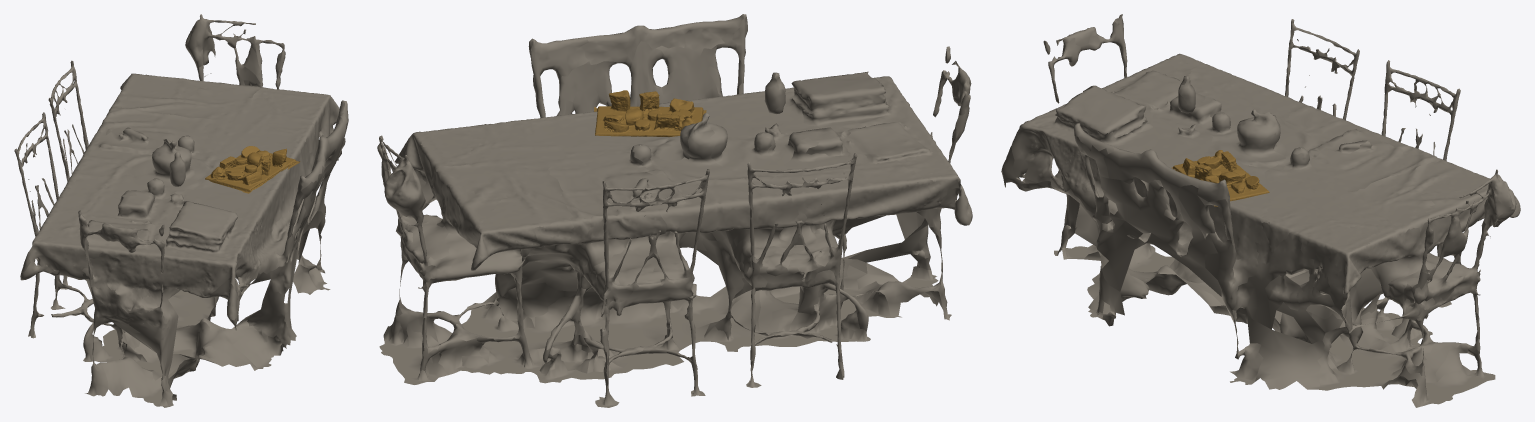
The model's file is TABLE.fbx.
The picture shows the model from 3 angles, left to right: view 1: azimuth 30°, elevation 25°; view 2: azimuth 150°, elevation 25°; view 3: azimuth 270°, elevation 25°; orthographic projection. The views are drawn at different scales.
Visible parts, largest first — view 1: TABLE; view 2: TABLE; view 3: TABLE.
Boxes of the visible parts, x1,y1,x2,y2 form: TABLE: [14, 14, 348, 407]; TABLE: [377, 14, 972, 407]; TABLE: [1001, 14, 1520, 407].
Bounding box in the file's own units: 280 × 129 × 285.
